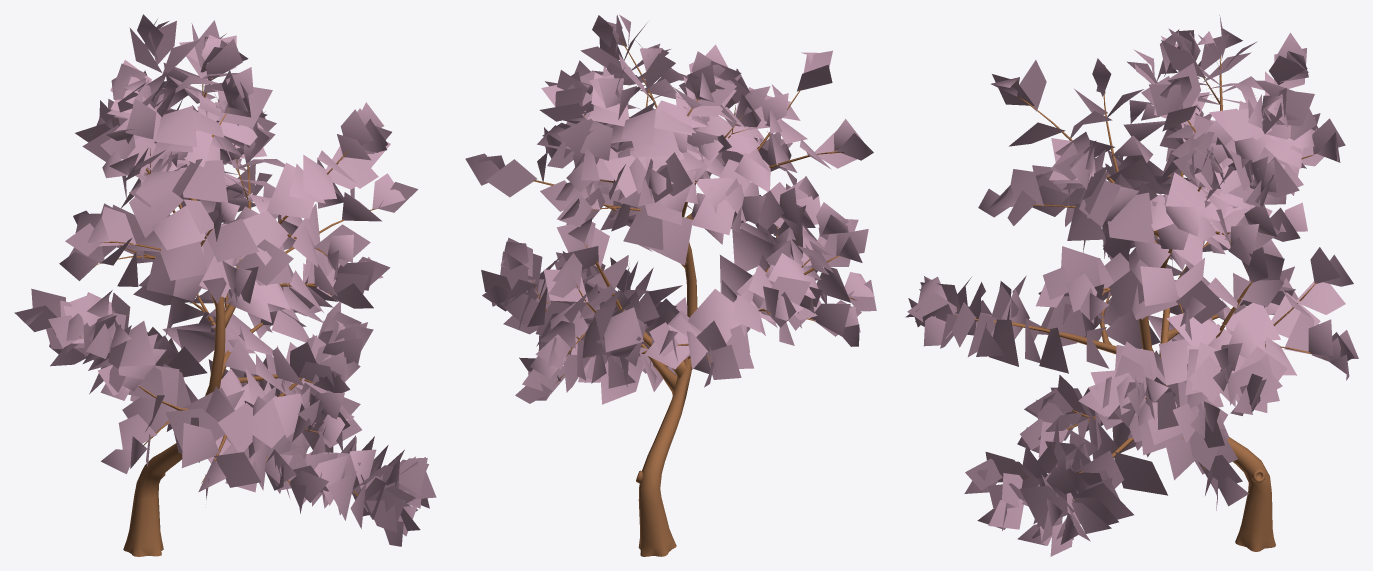
The model's file is Sakura_1.glb.
3 renders of one model, left to right at view 1: azimuth 30°, elevation 25°; view 2: azimuth 150°, elevation 25°; view 3: azimuth 270°, elevation 25°, orthographic. The views are drawn at different scales.
Parts seen in each view (by area): view 1: Sakura_1; view 2: Sakura_1; view 3: Sakura_1.
Boxes of the visible parts, left/top/right/bottom form: Sakura_1: left=14, top=14, right=436, bottom=556; Sakura_1: left=465, top=14, right=876, bottom=556; Sakura_1: left=905, top=15, right=1358, bottom=556.
Bounding box in the file's own units: 4.48 × 5.68 × 4.5.
